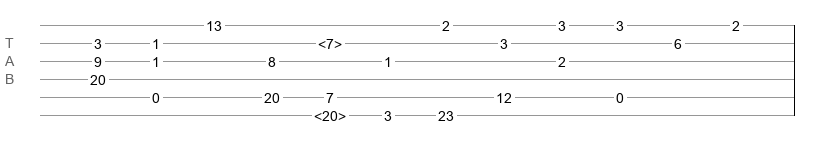0: (152, 90, 160, 100), (616, 90, 624, 100)
1: (152, 36, 160, 46), (152, 54, 160, 64), (384, 54, 392, 64)
12: (496, 90, 512, 100)
13: (206, 18, 222, 28)
2: (442, 18, 450, 28), (558, 54, 566, 64), (732, 18, 740, 28)
20: (90, 72, 106, 82), (264, 90, 280, 100)
23: (438, 108, 454, 118)
3: (94, 36, 102, 46), (384, 108, 392, 118), (500, 36, 508, 46), (558, 18, 566, 28), (616, 18, 624, 28)
6: (674, 36, 682, 46)
7: (326, 90, 334, 100)
8: (268, 54, 276, 64)
9: (94, 54, 102, 64)
harmonic: (314, 108, 346, 118), (318, 36, 342, 46)
